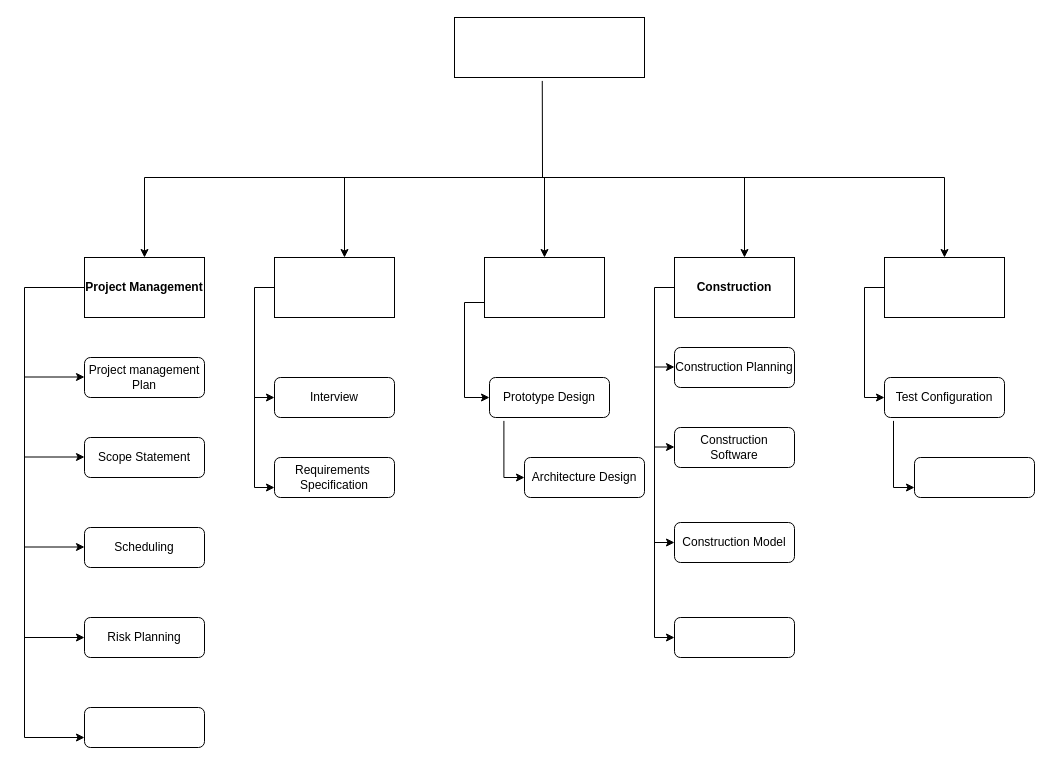
This 1052x765 diagram has some shape labels left out. Here are the shapes that lost their labels. From the top down, the centre of each, then its label:
At (x=549, y=47): "Mobile Application Development".
At (x=334, y=287): "Ananlysis".
At (x=544, y=287): "Design".
At (x=944, y=287): "Testing".
At (x=974, y=477): "Reviewing Design".
At (x=734, y=637): "Implementation".
At (x=144, y=727): "Change Plan".
